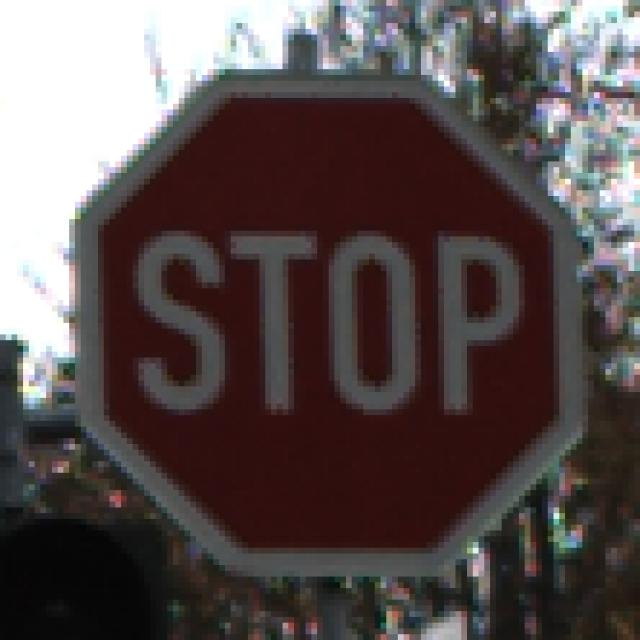STOP: (53, 59, 583, 583)
